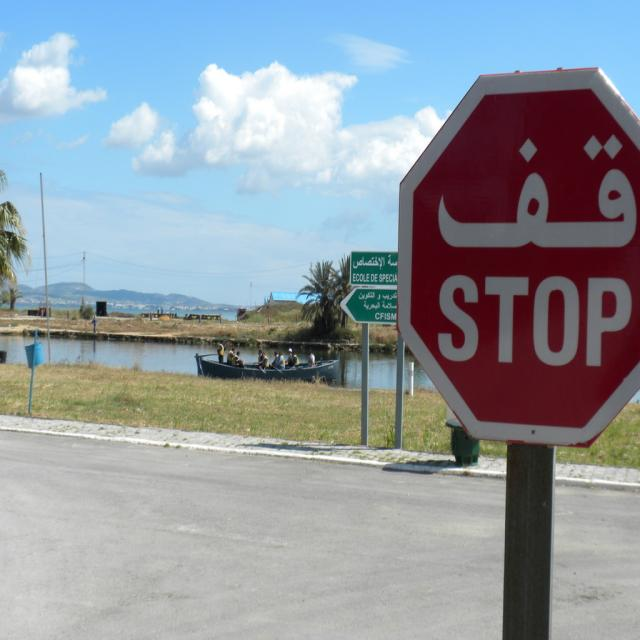Stop-sign: (396, 63, 640, 450)
